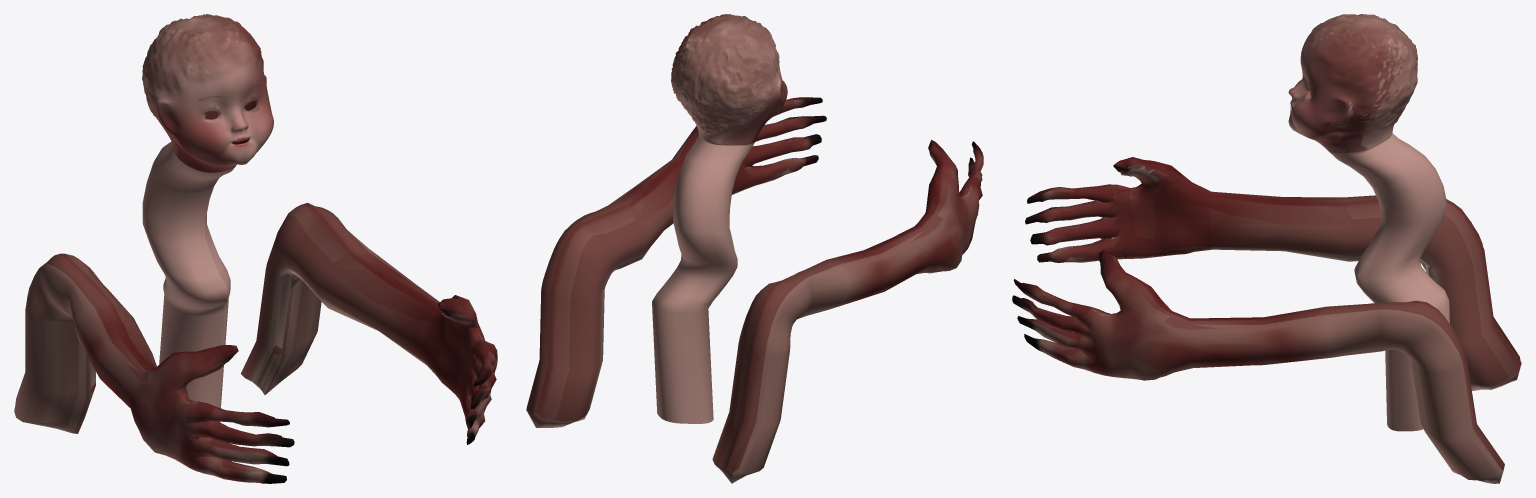
File: cursed doll 1.fbx
3 views of the same model, side by side, from view 1: azimuth 30°, elevation 25°; view 2: azimuth 150°, elevation 25°; view 3: azimuth 270°, elevation 25° (orthographic). The views are drawn at different scales.
Parts seen in each view (by area): view 1: kädet, nukke; view 2: kädet, nukke; view 3: kädet, nukke.
Boxes of the visible parts, x1=… form: kädet: x1=14, y1=202, x2=497, y2=483; nukke: x1=142, y1=14, x2=273, y2=421; kädet: x1=526, y1=97, x2=983, y2=483; nukke: x1=652, y1=14, x2=787, y2=423; kädet: x1=1012, y1=157, x2=1521, y2=483; nukke: x1=1288, y1=14, x2=1449, y2=431.
Size of the model in its own units: 0.6798 by 0.8636 by 0.9872.
2 materials, 2 textured.
